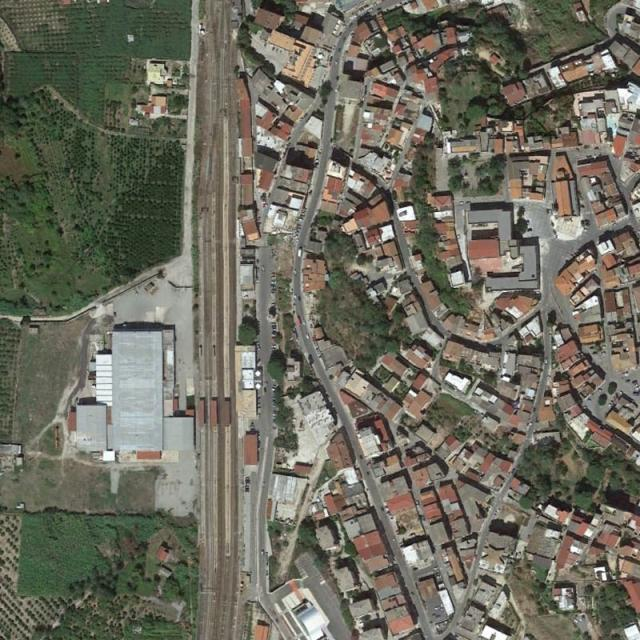vehicle: (297, 247, 302, 258)
